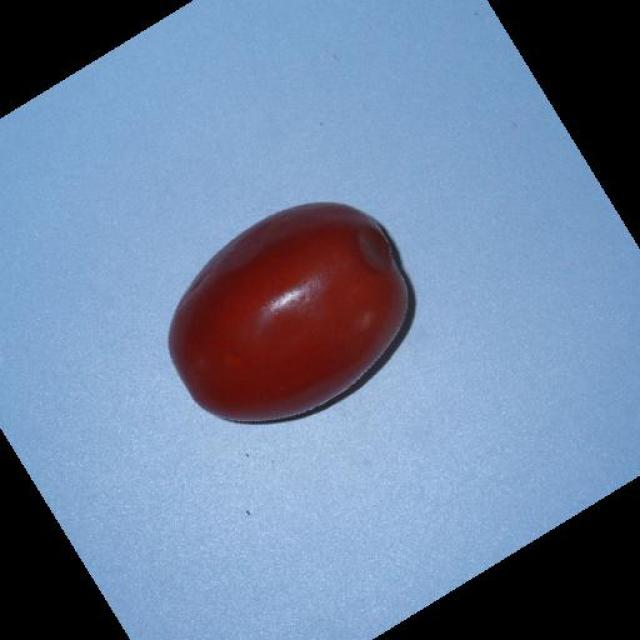Stale_tomato: (170, 188, 440, 421)
